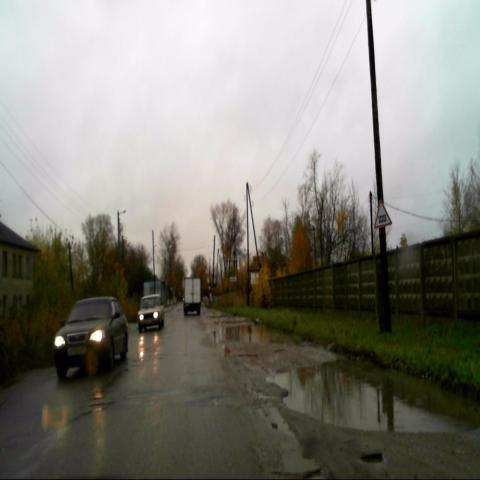1_1: (373, 199, 393, 230)
